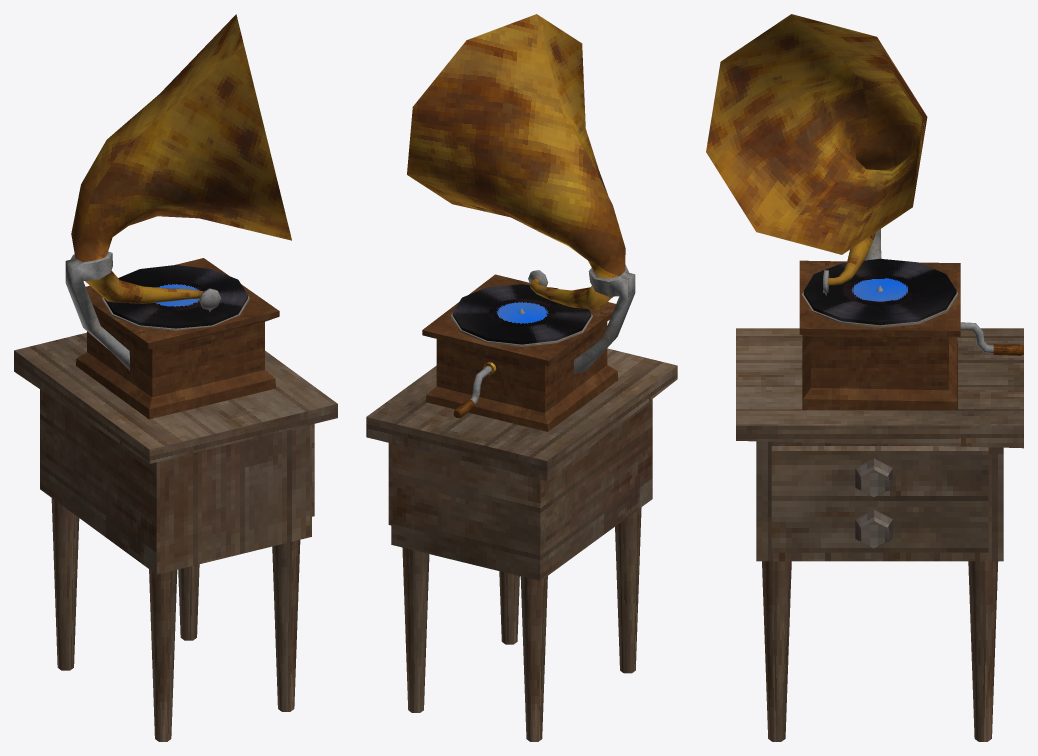
File: Gramophone.gltf
3 renders of one model, left to right at view 1: azimuth 30°, elevation 25°; view 2: azimuth 150°, elevation 25°; view 3: azimuth 270°, elevation 25°, orthographic. The views are drawn at different scales.
Parts seen in each view (by area): view 1: Gramophone-col, Vinyl; view 2: Gramophone-col, Vinyl, Handle; view 3: Gramophone-col, Vinyl, Handle.
Boxes of the visible parts, x1,y1,x2,y2 form: Gramophone-col: (14,14,337,741); Vinyl: (102,265,249,330); Gramophone-col: (366,14,677,741); Vinyl: (451,284,592,346); Handle: (453,362,496,418); Gramophone-col: (706,14,1023,741); Vinyl: (802,258,958,327); Handle: (960,322,1023,355).
Bounding box in the file's own units: 0.5528 × 1.61 × 0.6554.
2 materials, 2 textured.
